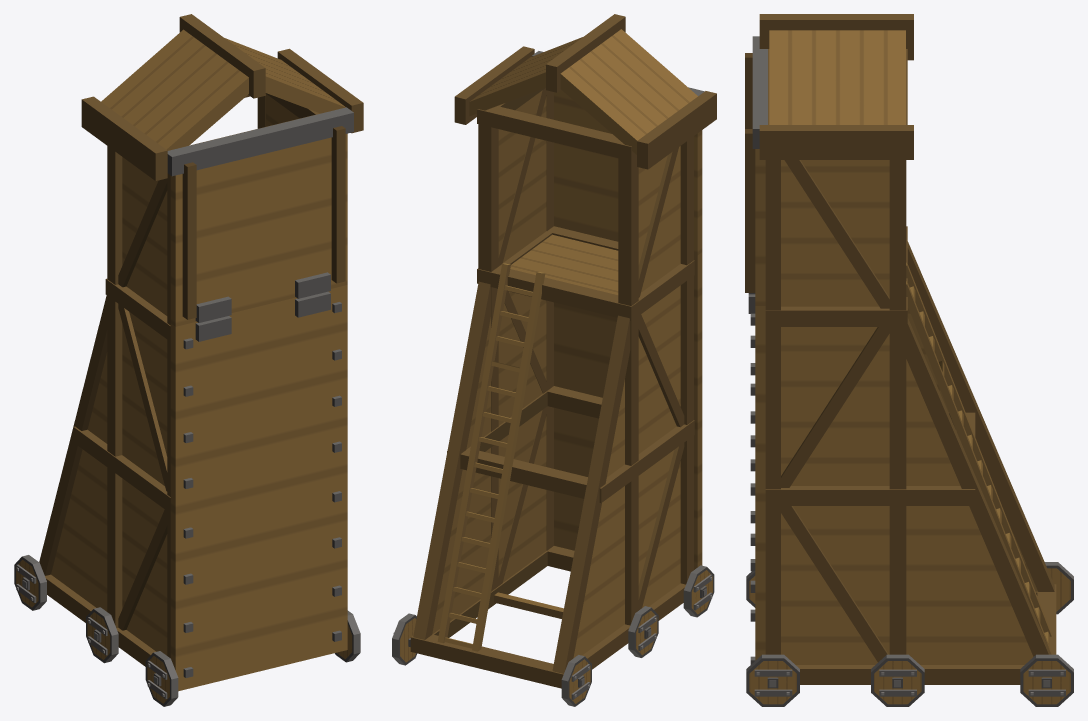
Rendered from SF_Veh_SiegeTower_01.fbx.
The picture shows the model from 3 angles, left to right: view 1: azimuth 30°, elevation 25°; view 2: azimuth 150°, elevation 25°; view 3: azimuth 270°, elevation 25°; orthographic projection. The views are drawn at different scales.
Visible parts, largest first — view 1: SF_Veh_SiegeTower_01, SF_Veh_SiegeTower_Gate, SF_Veh_SiegeTower_WheelFR, SF_Veh_SiegeTower_WheelMR, SF_Veh_SiegeTower_WheelBR, SF_Veh_SiegeTower_WheelFL; view 2: SF_Veh_SiegeTower_01, SF_Veh_SiegeTower_Gate, SF_Veh_SiegeTower_WheelFR, SF_Veh_SiegeTower_WheelMR, SF_Veh_SiegeTower_WheelBR, SF_Veh_SiegeTower_WheelBL; view 3: SF_Veh_SiegeTower_01, SF_Veh_SiegeTower_Gate, SF_Veh_SiegeTower_WheelFL, SF_Veh_SiegeTower_WheelML, SF_Veh_SiegeTower_WheelBL, SF_Veh_SiegeTower_WheelBR.
Boxes of the visible parts, x1,y1,x2,y2 form: SF_Veh_SiegeTower_01: (39, 14, 363, 691); SF_Veh_SiegeTower_Gate: (167, 107, 353, 326); SF_Veh_SiegeTower_WheelFR: (145, 651, 178, 706); SF_Veh_SiegeTower_WheelMR: (86, 607, 118, 663); SF_Veh_SiegeTower_WheelBR: (14, 555, 46, 610); SF_Veh_SiegeTower_WheelFL: (335, 610, 360, 662); SF_Veh_SiegeTower_01: (408, 14, 716, 688); SF_Veh_SiegeTower_Gate: (532, 51, 704, 255); SF_Veh_SiegeTower_WheelFR: (683, 565, 714, 617); SF_Veh_SiegeTower_WheelMR: (628, 606, 658, 657); SF_Veh_SiegeTower_WheelBR: (561, 655, 591, 706); SF_Veh_SiegeTower_WheelBL: (392, 613, 417, 665); SF_Veh_SiegeTower_01: (748, 14, 1056, 684); SF_Veh_SiegeTower_Gate: (745, 36, 767, 305); SF_Veh_SiegeTower_WheelFL: (746, 654, 799, 706); SF_Veh_SiegeTower_WheelML: (871, 654, 924, 706); SF_Veh_SiegeTower_WheelBL: (1020, 654, 1073, 706); SF_Veh_SiegeTower_WheelBR: (1044, 562, 1073, 614).
Size of the model in its own units: 5.64 by 15.96 by 7.41.
